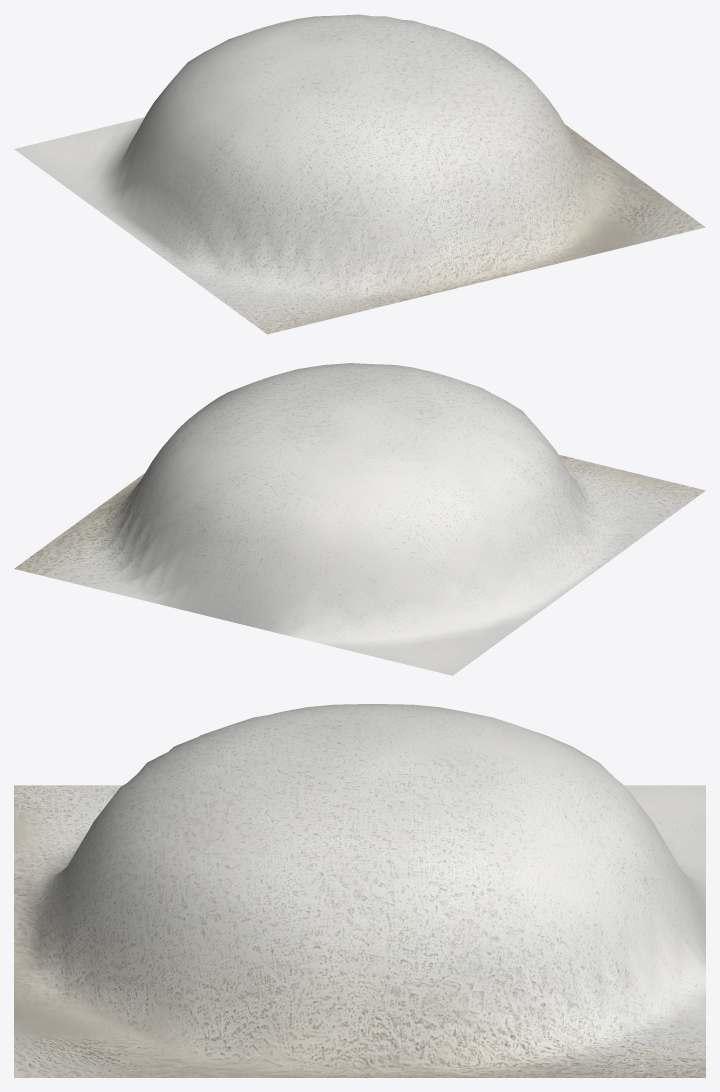
Rendered from ImmersedinLowryVR03Painting01SkyBox.fbx.
3 views of the same model, one above another, from view 1: azimuth 30°, elevation 25°; view 2: azimuth 150°, elevation 25°; view 3: azimuth 270°, elevation 25° (orthographic). The views are drawn at different scales.
Parts seen in each view (by area): view 1: ImmersedinLowryVR03_Painting01SkyBox; view 2: ImmersedinLowryVR03_Painting01SkyBox; view 3: ImmersedinLowryVR03_Painting01SkyBox.
Boxes of the visible parts, x1=… form: ImmersedinLowryVR03_Painting01SkyBox: x1=14, y1=14, x2=705, y2=334; ImmersedinLowryVR03_Painting01SkyBox: x1=14, y1=363, x2=705, y2=675; ImmersedinLowryVR03_Painting01SkyBox: x1=14, y1=704, x2=705, y2=1077.
Bounding box in the file's own units: 79205 × 22356 × 79205.
Materials: 1 (1 with a texture image).
